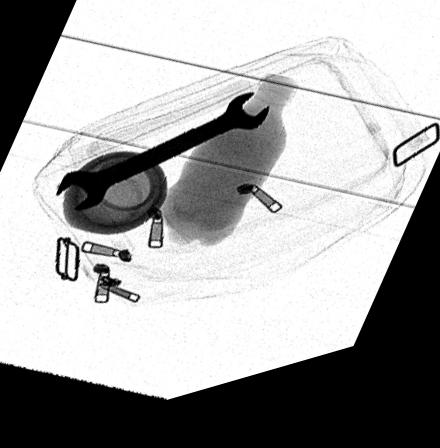Wrench: (51, 105, 271, 219)
